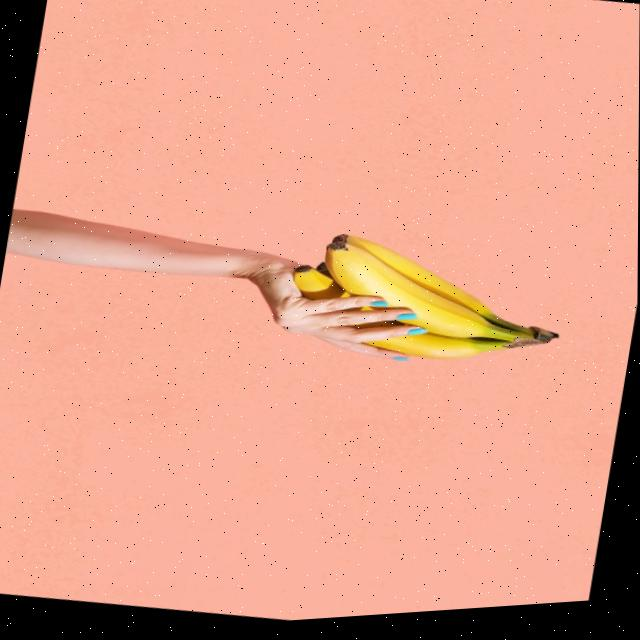Banana: (325, 247, 532, 349)
